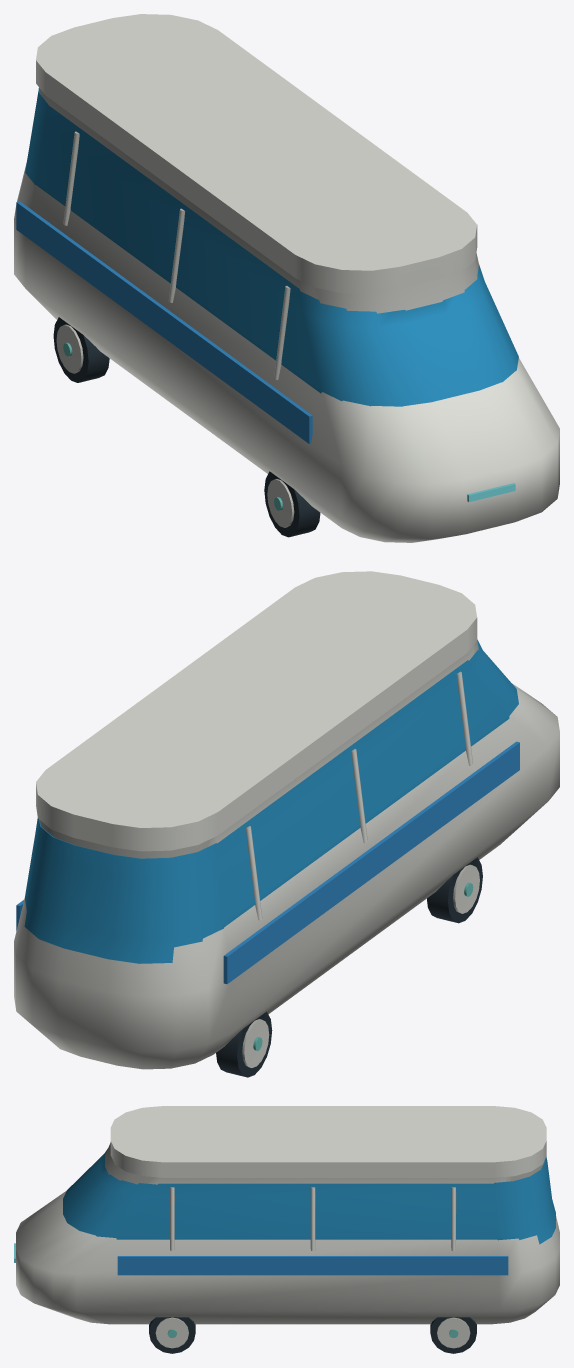
The model's file is train-cab-low.glb.
3 renders of one model, top to bottom at view 1: azimuth 30°, elevation 25°; view 2: azimuth 150°, elevation 25°; view 3: azimuth 270°, elevation 25°, orthographic. The views are drawn at different scales.
Visible parts, largest first — view 1: streamlined driver shell, sloped cab panorama, train blue ribbon, electric tire; view 2: streamlined driver shell, sloped cab panorama, train blue ribbon, electric tire; view 3: streamlined driver shell, sloped cab panorama, train blue ribbon, electric tire.
Part boxes in pixels (left/top/right/bottom): streamlined driver shell: left=14, top=14, right=559, bottom=542; sloped cab panorama: left=25, top=87, right=518, bottom=406; train blue ribbon: left=16, top=201, right=312, bottom=443; electric tire: left=53, top=317, right=320, bottom=537; streamlined driver shell: left=14, top=571, right=559, bottom=1069; sloped cab panorama: left=24, top=639, right=518, bottom=963; train blue ribbon: left=16, top=741, right=519, bottom=984; electric tire: left=216, top=857, right=482, bottom=1077; streamlined driver shell: left=16, top=1106, right=559, bottom=1348; sloped cab panorama: left=63, top=1148, right=555, bottom=1244; train blue ribbon: left=117, top=1256, right=508, bottom=1275; electric tire: left=149, top=1317, right=476, bottom=1353.
Bounding box in the file's own units: 1.04 × 1.34 × 3.49.
